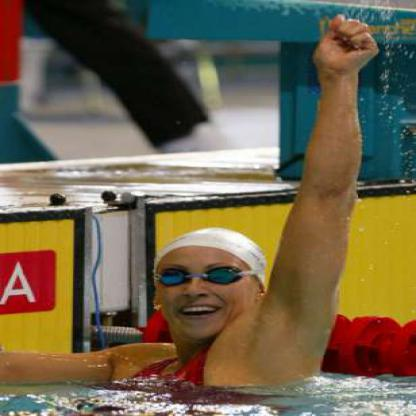face: (150, 233, 258, 344)
